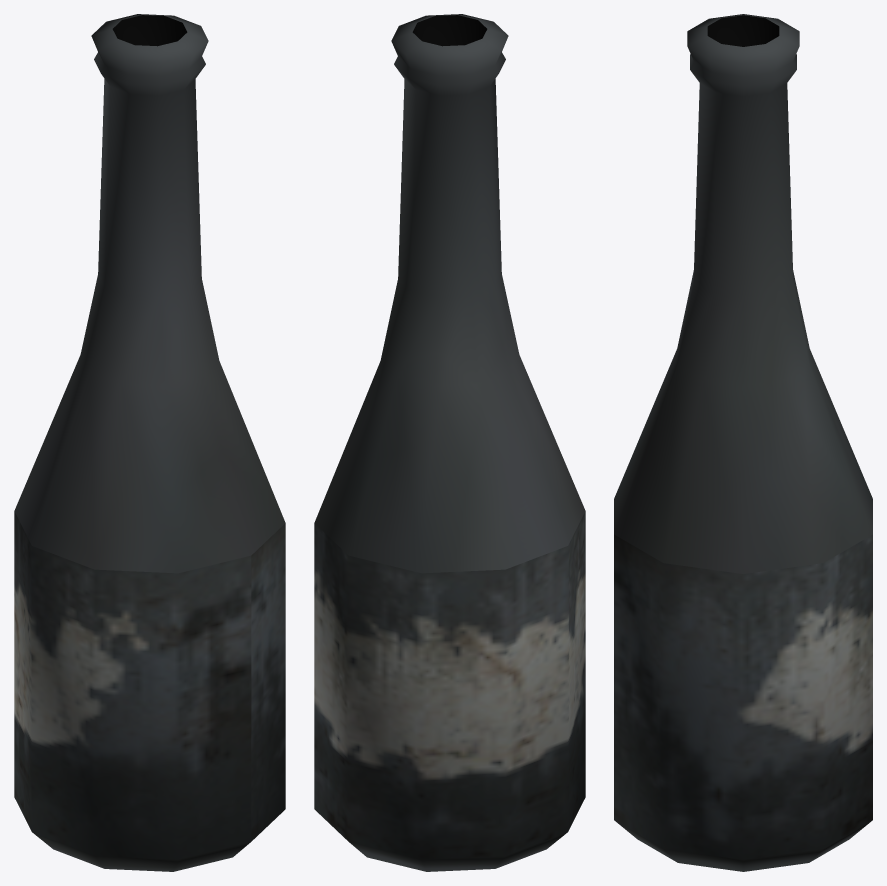
Rendered from Garbage1_10.fbx.
3 views of the same model, side by side, from view 1: azimuth 30°, elevation 25°; view 2: azimuth 150°, elevation 25°; view 3: azimuth 270°, elevation 25° (orthographic).
Visible parts, largest first — view 1: polySurface8; view 2: polySurface8; view 3: polySurface8.
Boxes of the visible parts, x1=… form: polySurface8: x1=14, y1=14, x2=285, y2=871; polySurface8: x1=314, y1=14, x2=585, y2=871; polySurface8: x1=614, y1=14, x2=872, y2=871.
Size of the model in its own units: 0.5336 by 1.72 by 0.5075.
